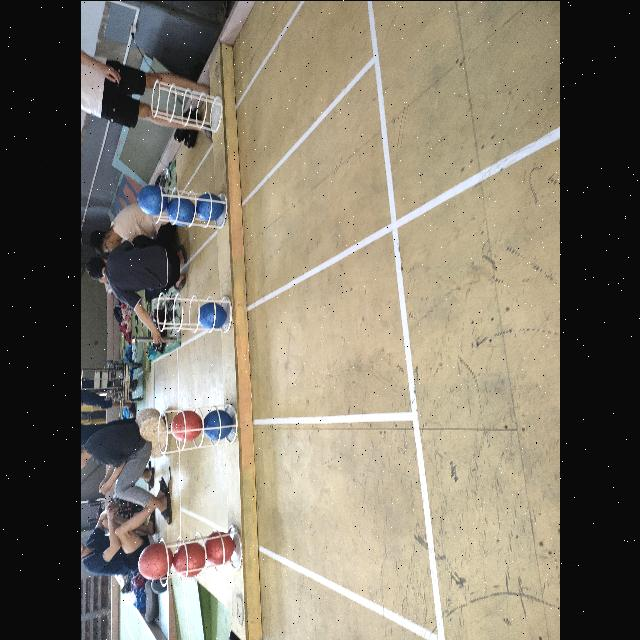B: (136, 184, 168, 214), (202, 409, 232, 439), (196, 302, 226, 330), (168, 197, 194, 226), (196, 192, 222, 220)
R: (138, 542, 172, 580), (173, 540, 205, 576), (204, 530, 234, 564), (170, 410, 202, 440)
